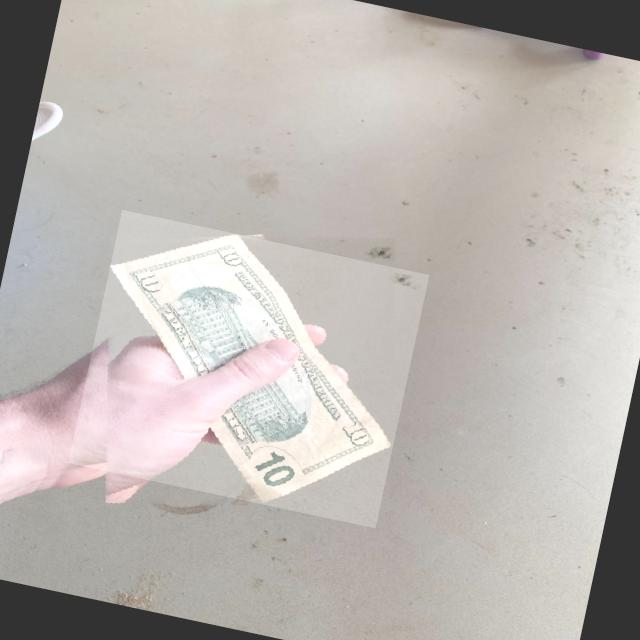ten: (102, 193, 392, 526)
